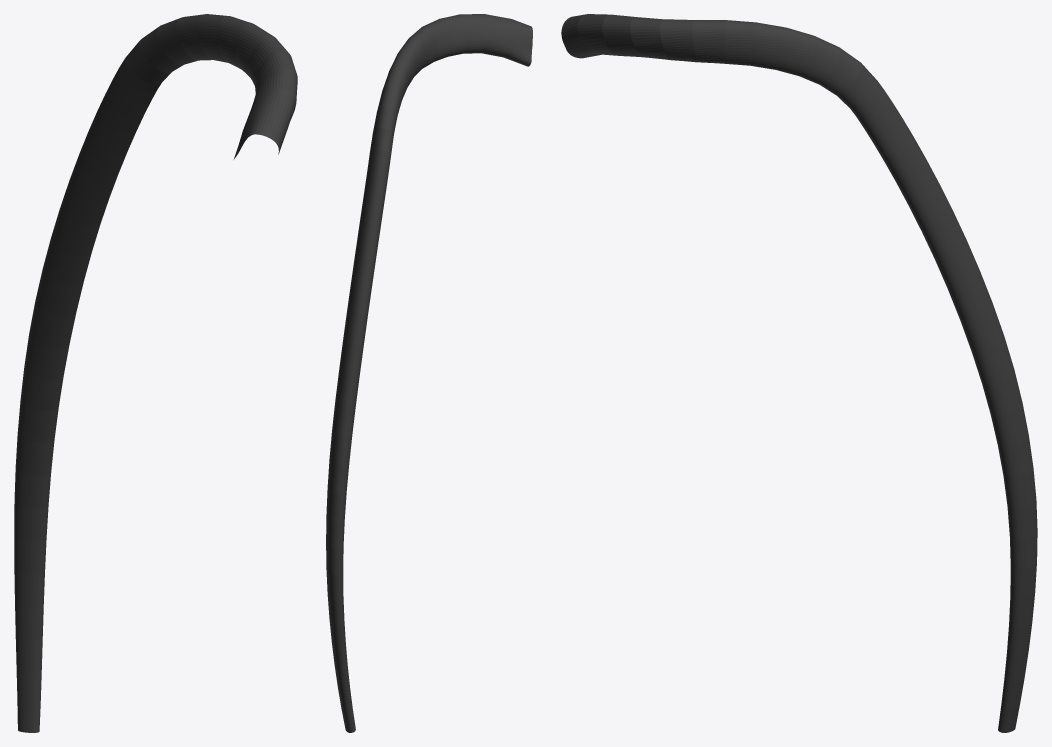
Rendered from N_7_facial_ramus_stylohyoideus.glb.
The picture shows the model from 3 angles, left to right: view 1: azimuth 30°, elevation 25°; view 2: azimuth 150°, elevation 25°; view 3: azimuth 270°, elevation 25°; orthographic projection. The views are drawn at different scales.
Parts seen in each view (by area): view 1: N_7_facial_ramus_stylohyoideus; view 2: N_7_facial_ramus_stylohyoideus; view 3: N_7_facial_ramus_stylohyoideus.
Boxes of the visible parts, <box> form: N_7_facial_ramus_stylohyoideus: <box>14,14,297,732</box>; N_7_facial_ramus_stylohyoideus: <box>326,14,532,732</box>; N_7_facial_ramus_stylohyoideus: <box>561,14,1037,732</box>.
Bounding box in the file's own units: 0.0012 × 0.00932 × 0.00544.
1 material, 1 textured.
